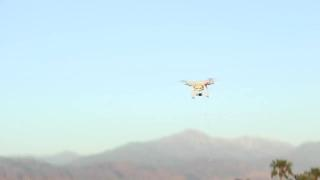UAV: (180, 78, 215, 99)
